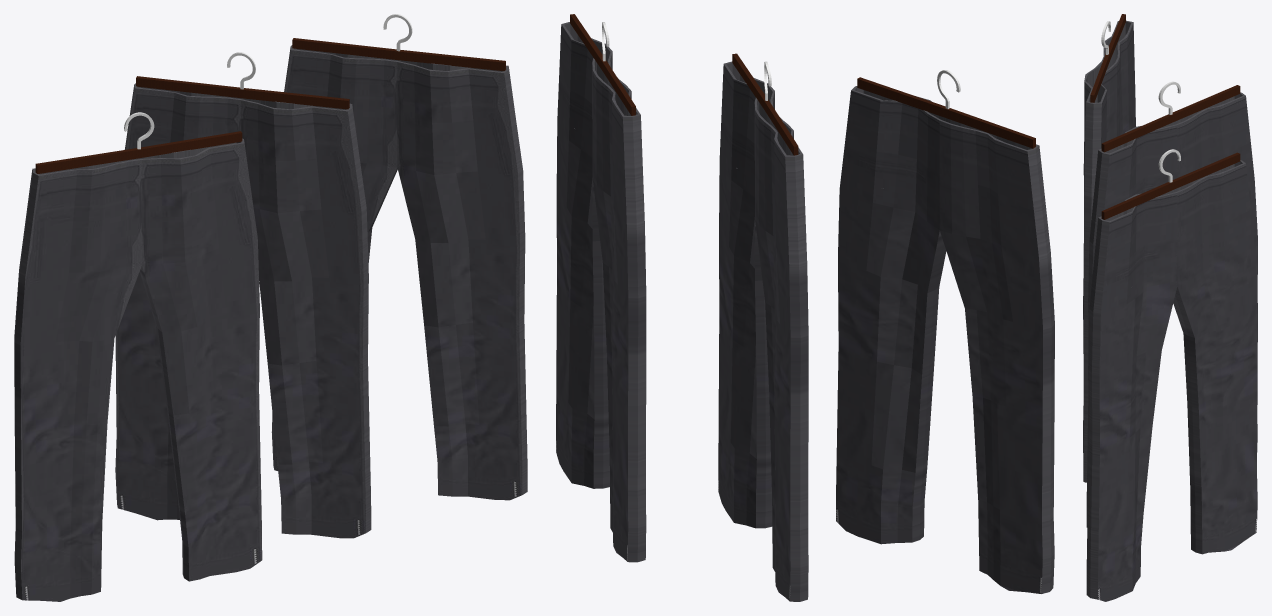
File: chinogrey2.glb
3 renders of one model, left to right at view 1: azimuth 30°, elevation 25°; view 2: azimuth 150°, elevation 25°; view 3: azimuth 270°, elevation 25°, orthographic. The views are drawn at different scales.
Parts seen in each view (by area): view 1: Plane.344; view 2: Plane.344; view 3: Plane.344.
Part boxes in pixels (<box>): Plane.344: <box>14,14,527,601</box>; Plane.344: <box>556,14,1054,601</box>; Plane.344: <box>1083,14,1257,601</box>.
Size of the model in its own units: 0.5145 by 0.4706 by 0.1777.
Materials: 3 (3 with a texture image).
